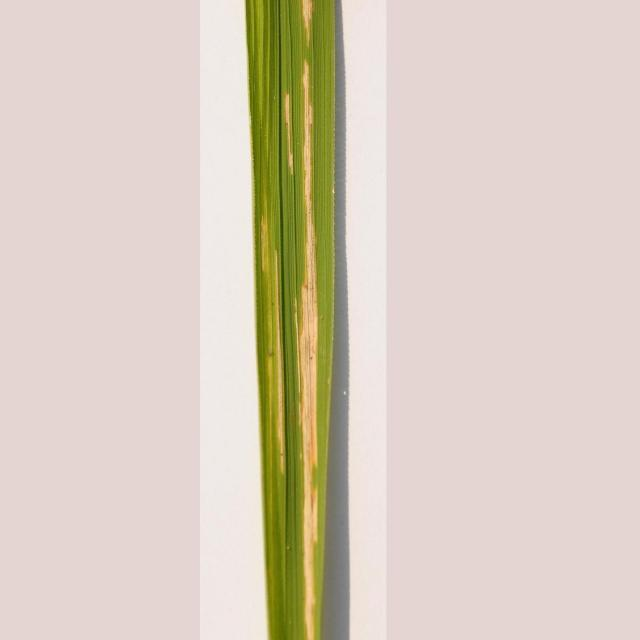leaf blight: (256, 1, 345, 638)
